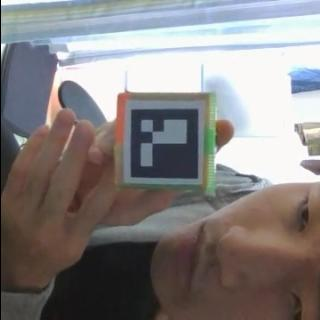armor: (123, 99, 205, 185)
robot: (114, 92, 216, 194)
